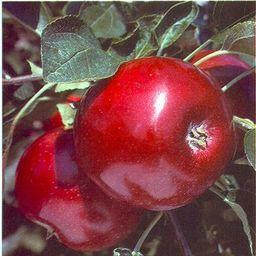apple: (74, 59, 239, 216), (14, 125, 144, 252)
